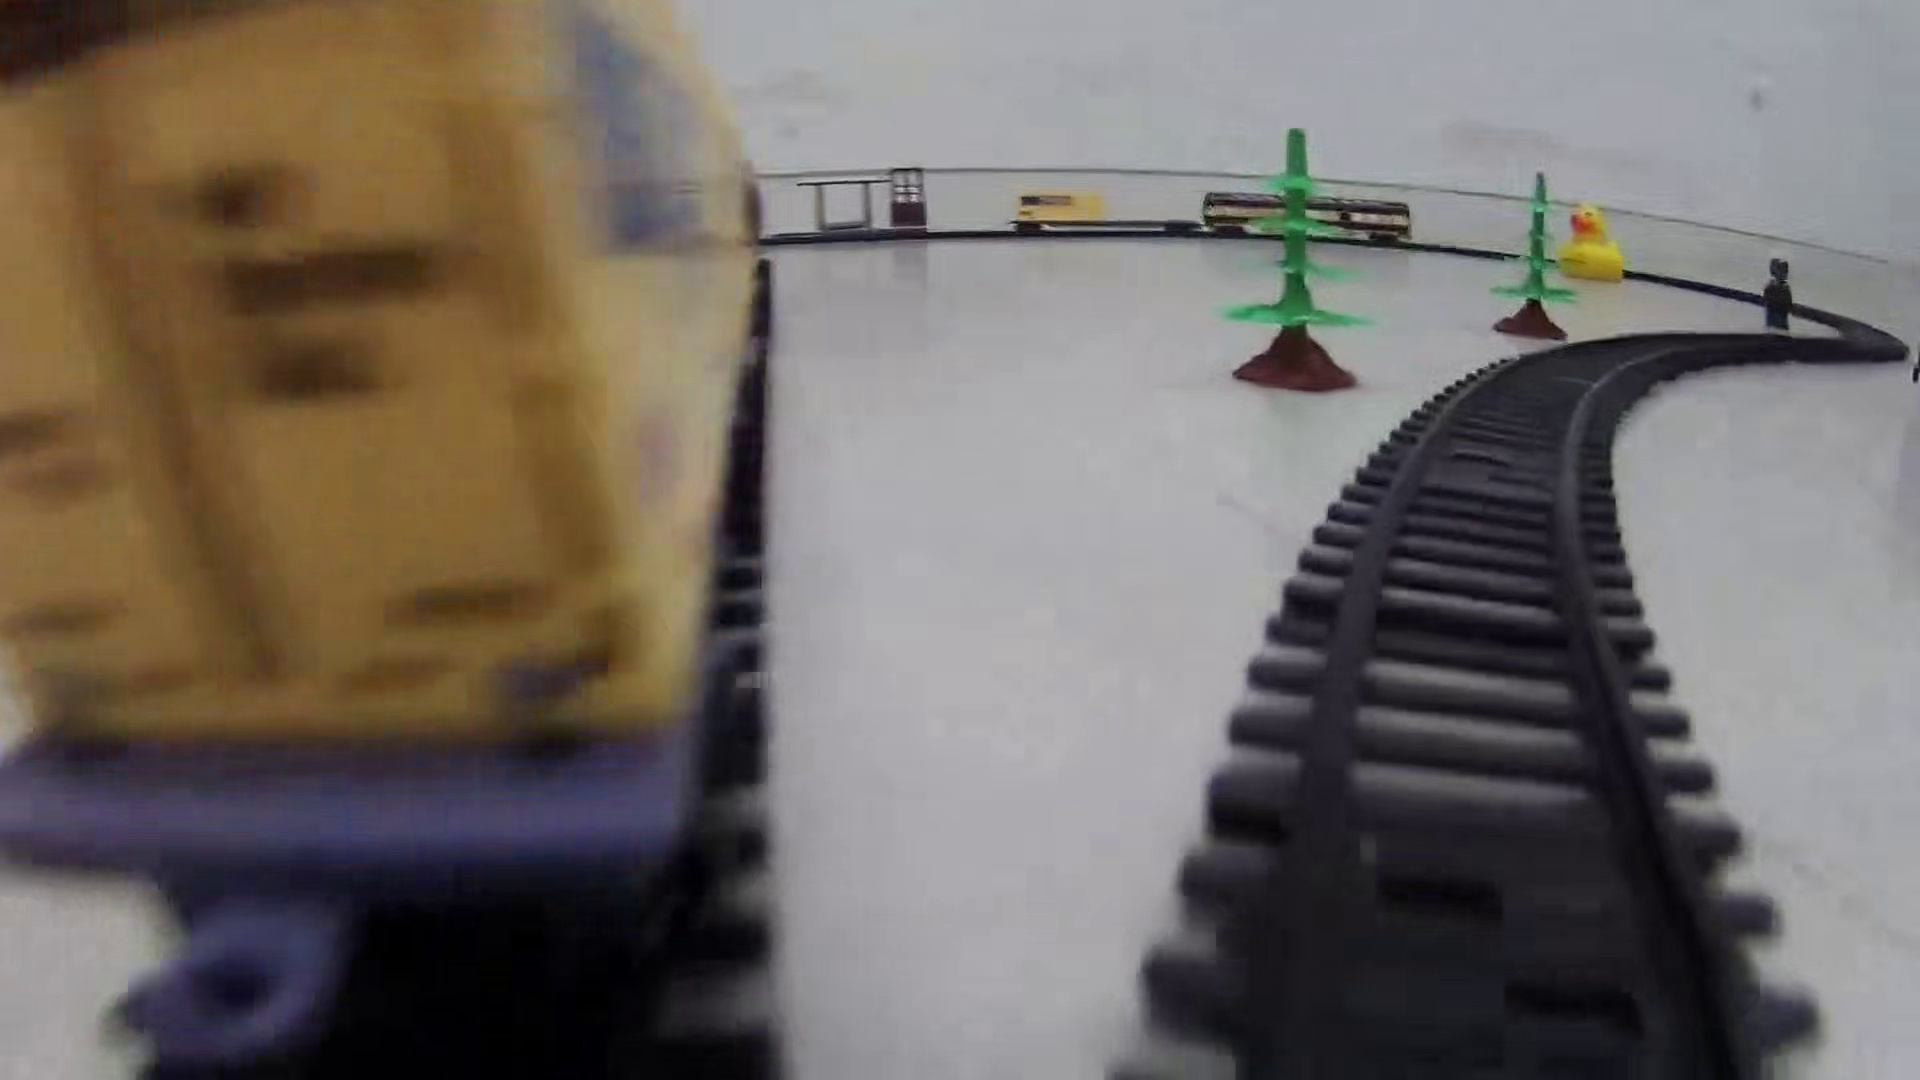people: (1756, 254, 1800, 338)
tree: (1221, 124, 1375, 403), (1487, 172, 1586, 349)
